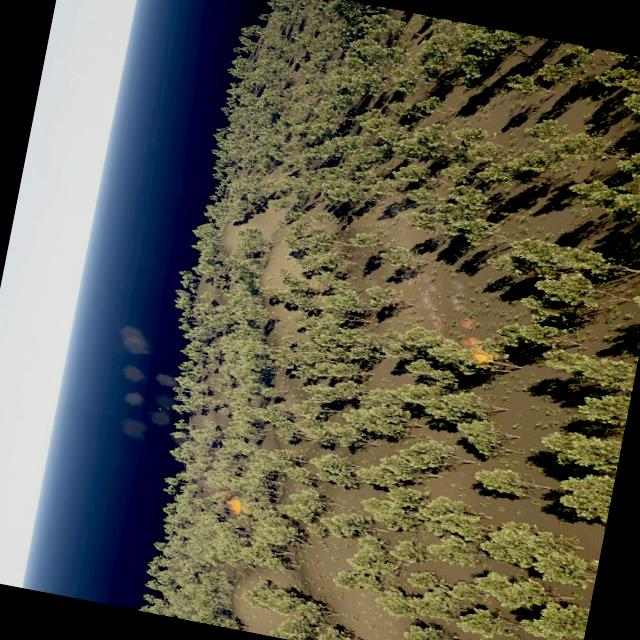fire: (228, 498, 245, 514), (474, 352, 494, 362)
smoke: (100, 324, 186, 441), (406, 271, 485, 335), (460, 334, 484, 349)
